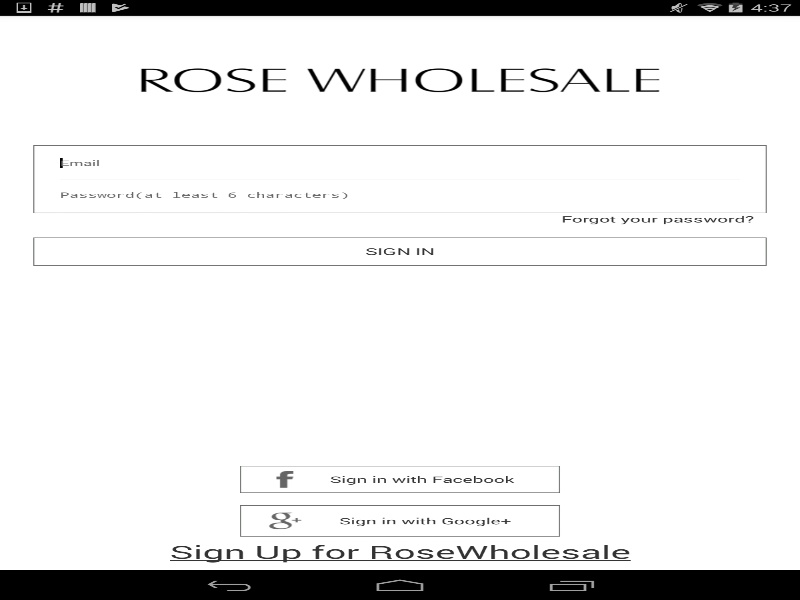Button: (33, 237, 766, 265), (240, 505, 560, 536), (240, 465, 560, 492)
Input: (60, 147, 740, 178), (60, 179, 740, 210)
